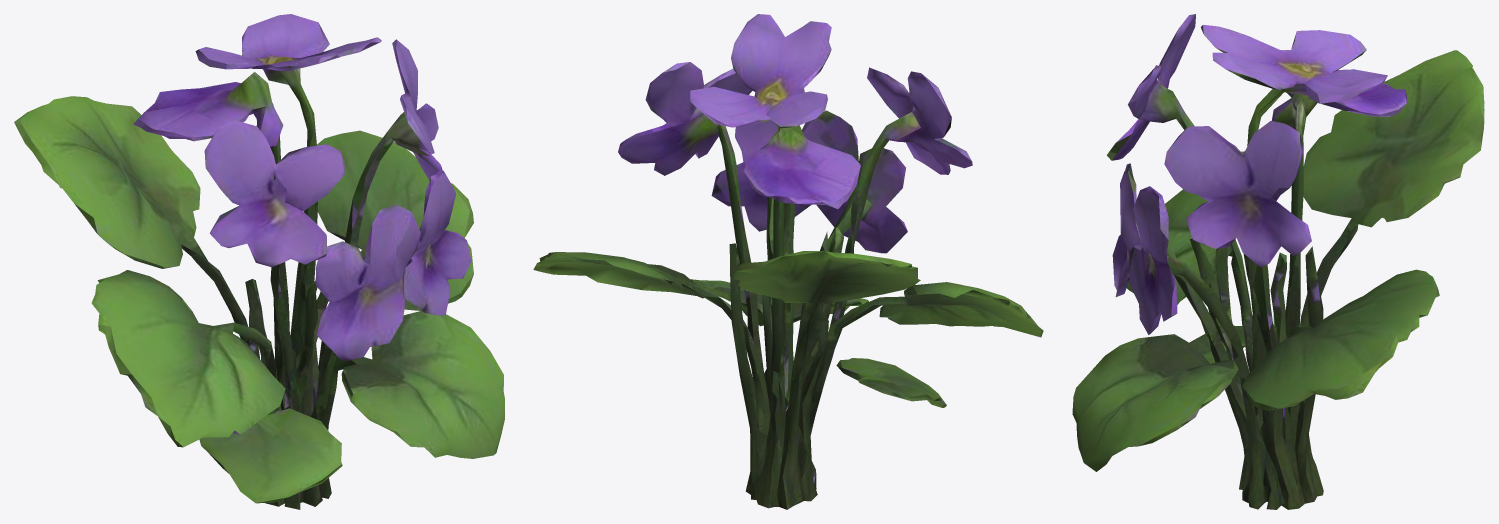
The model's file is wild_violet.glb.
3 views of the same model, side by side, from view 1: azimuth 30°, elevation 25°; view 2: azimuth 150°, elevation 25°; view 3: azimuth 270°, elevation 25° (orthographic). The views are drawn at different scales.
Visible parts, largest first — view 1: wild_violet; view 2: wild_violet; view 3: wild_violet.
Part boxes in pixels (x1,y1,x2,y2): wild_violet: (14,14,504,509); wild_violet: (533,14,1043,509); wild_violet: (1072,14,1484,509).
Size of the model in its own units: 0.968 by 1 by 0.7936.
1 material, 1 textured.
